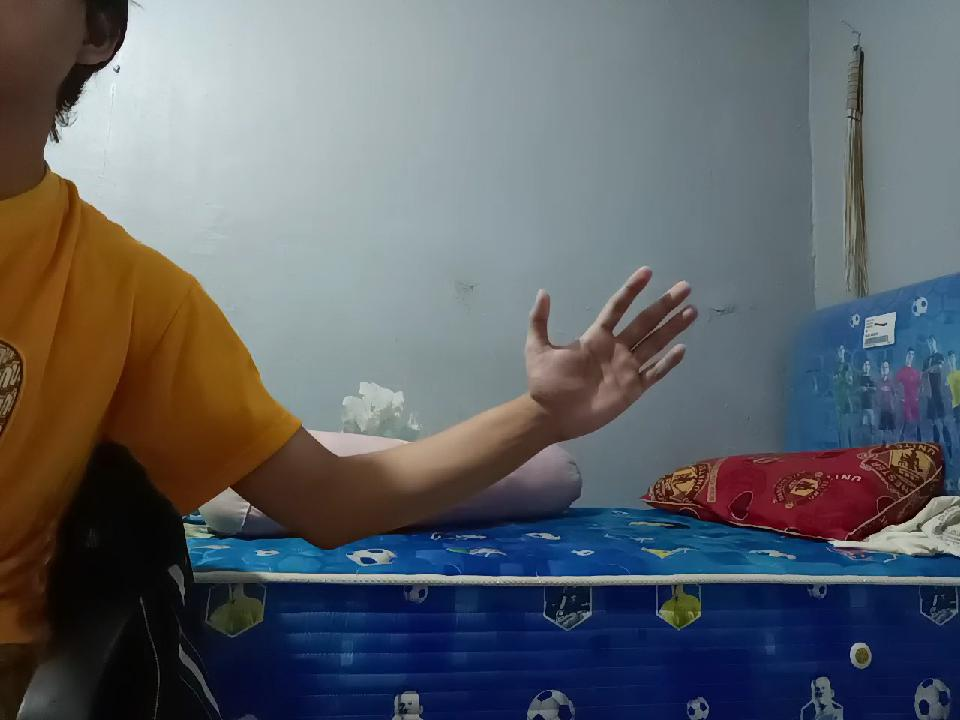paper: (517, 250, 677, 441)
